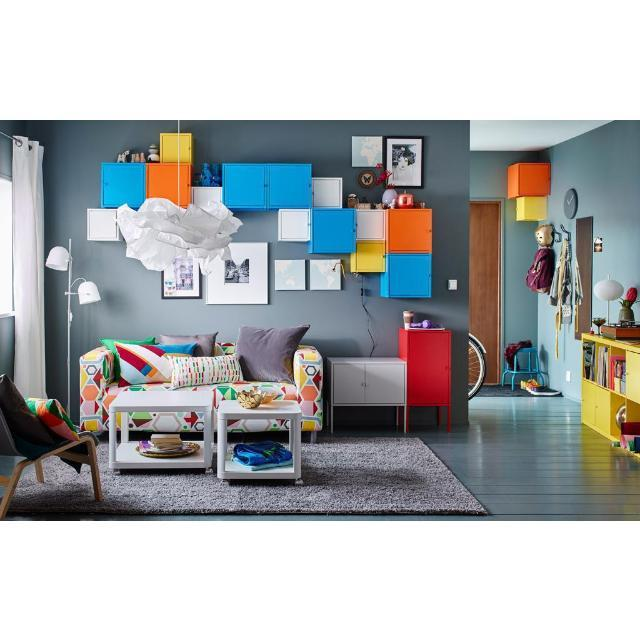armchair: (0, 374, 102, 520)
clock: (564, 188, 578, 218)
curtain: (12, 135, 45, 397)
lamp: (45, 239, 100, 412)
light: (116, 196, 241, 274)
pillow: (235, 325, 310, 382), (115, 342, 171, 386), (171, 355, 244, 388), (25, 398, 79, 440), (160, 332, 217, 356)
rug: (9, 436, 485, 514)
shelf: (581, 333, 640, 440)
wall-art: (206, 242, 268, 304), (383, 135, 424, 188), (161, 254, 201, 297), (351, 135, 382, 166), (275, 259, 305, 290), (310, 259, 341, 289)
